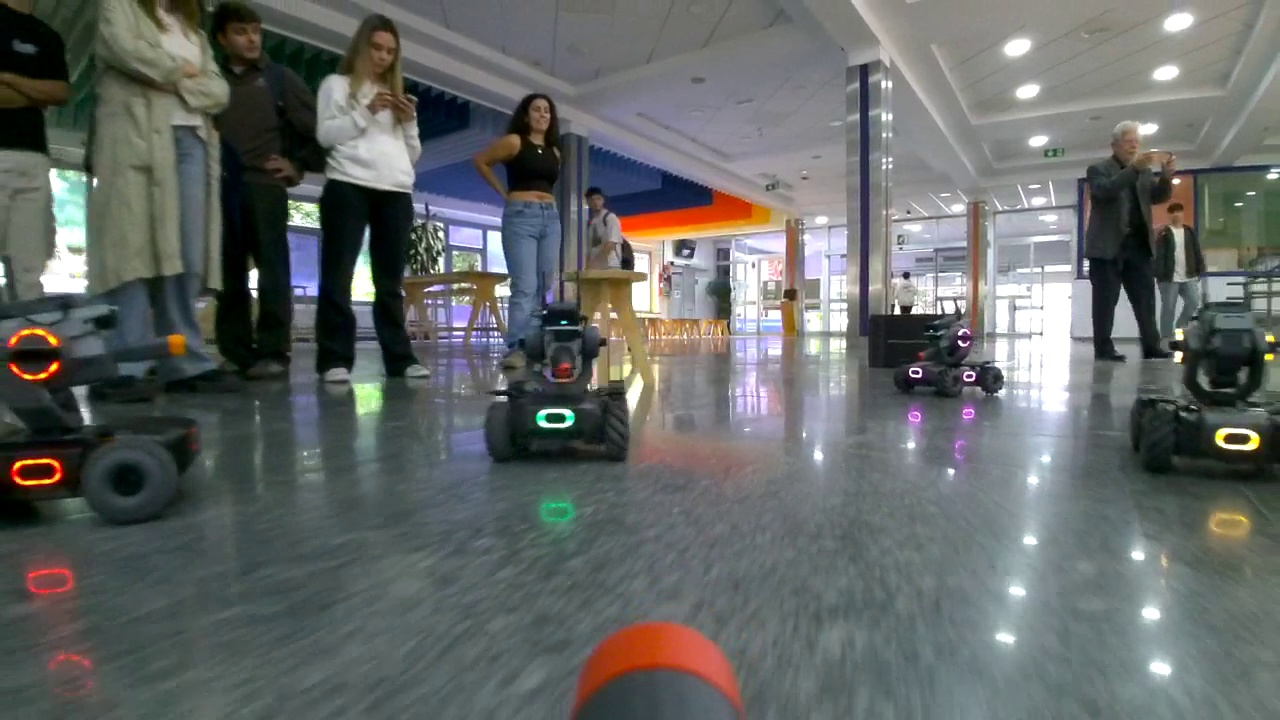robot: (1, 297, 205, 517), (1123, 300, 1280, 483), (482, 299, 633, 470), (890, 318, 1007, 399)
